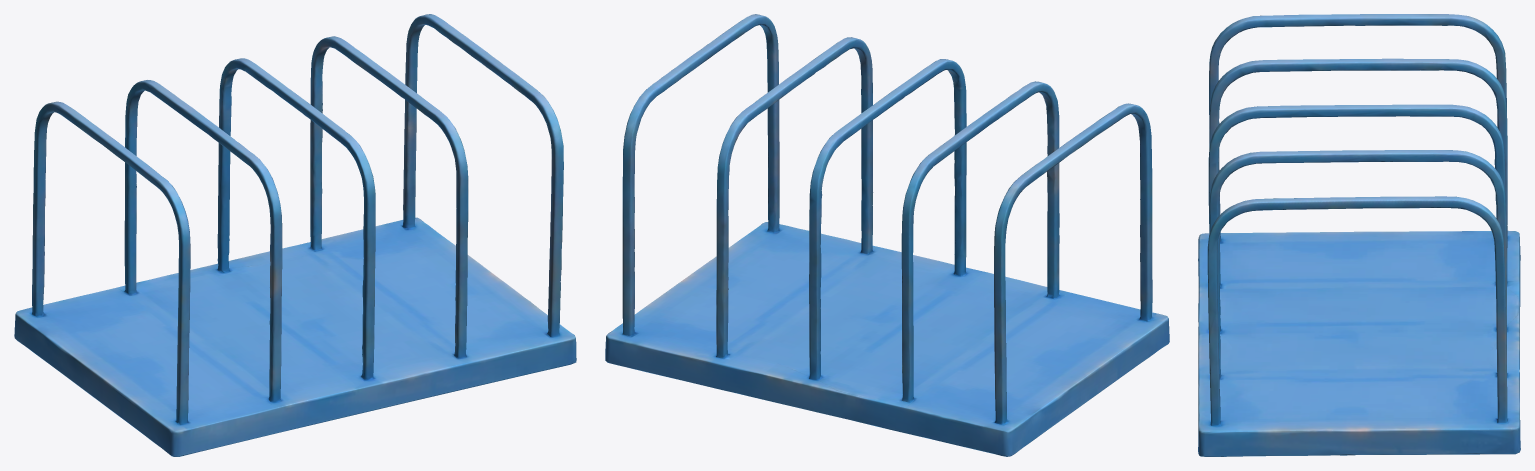
The model's file is Poppin_File_Sorter_Blue.glb.
3 renders of one model, left to right at view 1: azimuth 30°, elevation 25°; view 2: azimuth 150°, elevation 25°; view 3: azimuth 270°, elevation 25°, orthographic.
Parts seen in each view (by area): view 1: Poppin_File_Sorter_Blue; view 2: Poppin_File_Sorter_Blue; view 3: Poppin_File_Sorter_Blue.
Boxes of the visible parts, box(x1,y1,x2,y2) form: Poppin_File_Sorter_Blue: box(14, 14, 576, 456); Poppin_File_Sorter_Blue: box(605, 14, 1169, 456); Poppin_File_Sorter_Blue: box(1198, 14, 1520, 456).
Bounding box in the file's own units: 0.2503 × 0.1536 × 0.1737.
1 material, 1 textured.
